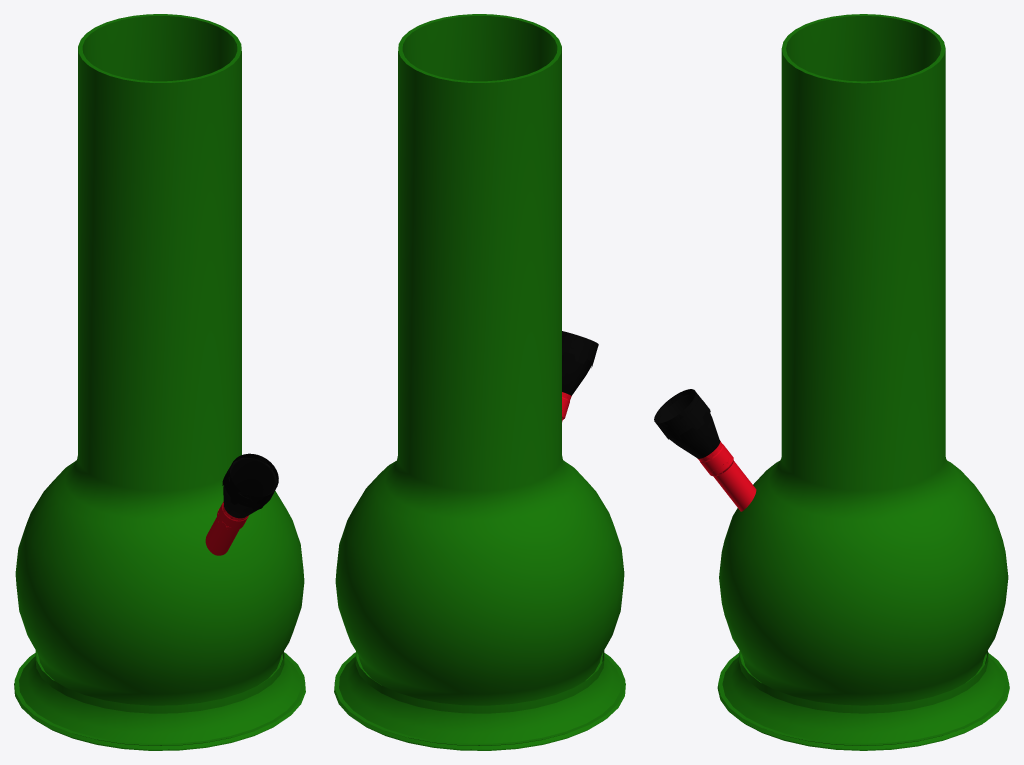
File: bong.fbx
3 views of the same model, side by side, from view 1: azimuth 30°, elevation 25°; view 2: azimuth 150°, elevation 25°; view 3: azimuth 270°, elevation 25° (orthographic).
Parts seen in each view (by area): view 1: Sphere, Cylinder; view 2: Sphere, Cylinder; view 3: Sphere, Cylinder.
Part boxes in pixels (box(x1,y1,x2,y2)): Sphere: box(14, 14, 305, 750); Cylinder: box(205, 453, 278, 555); Sphere: box(334, 14, 625, 750); Cylinder: box(562, 331, 598, 421); Sphere: box(717, 14, 1009, 750); Cylinder: box(654, 389, 756, 511).
Size of the model in its own units: 202 by 489 by 246.
